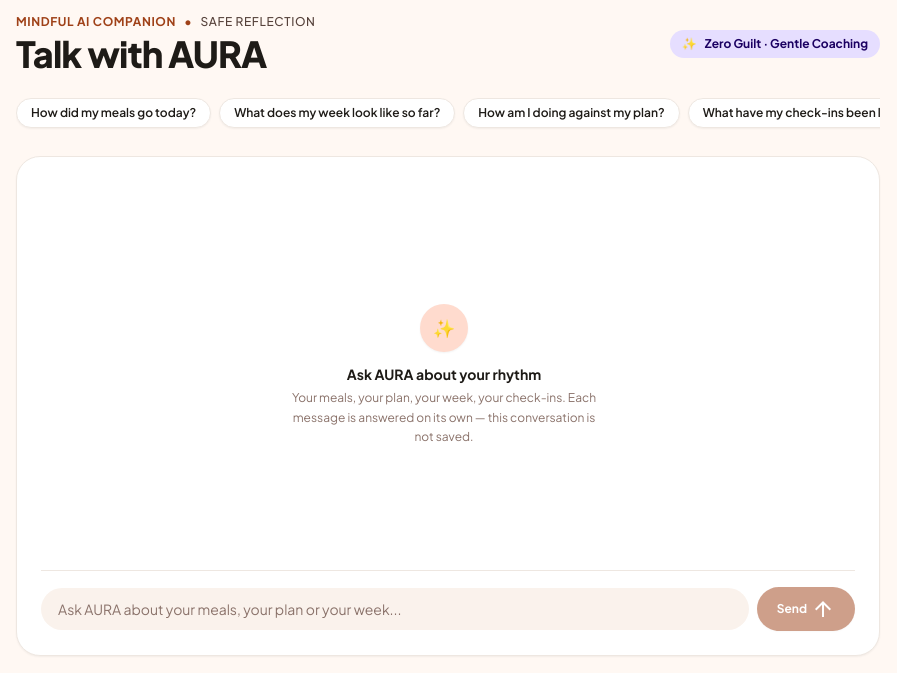
sending › shows the question, then the answer the server actually returned
In the field named "Message AURA": [395, 609] box [41,588,749,630], type "How did today go?"
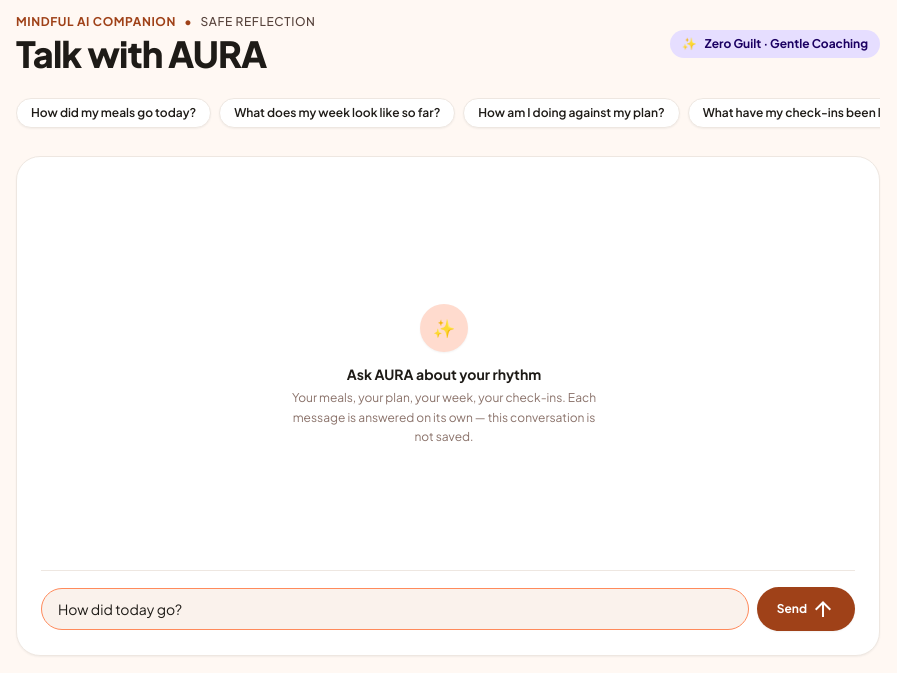
Click the button "Send": [806, 609] box [757,587,855,631]
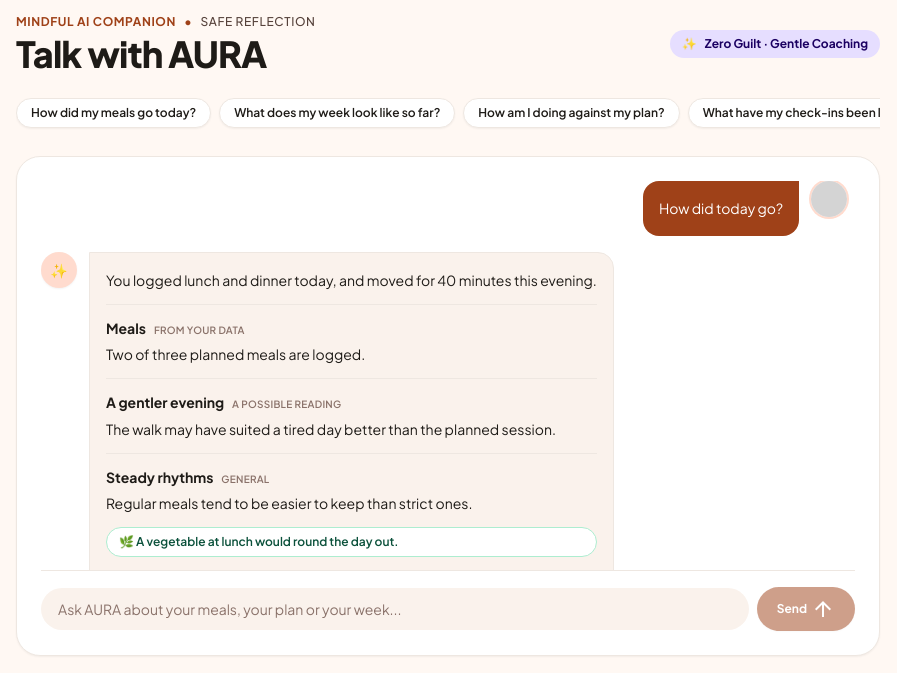
Check: the text "How did today go?" is shown, box [659,197,783,220]
Check: the text "You logged lunch and dinner today" is shown, box [106,271,597,289]
